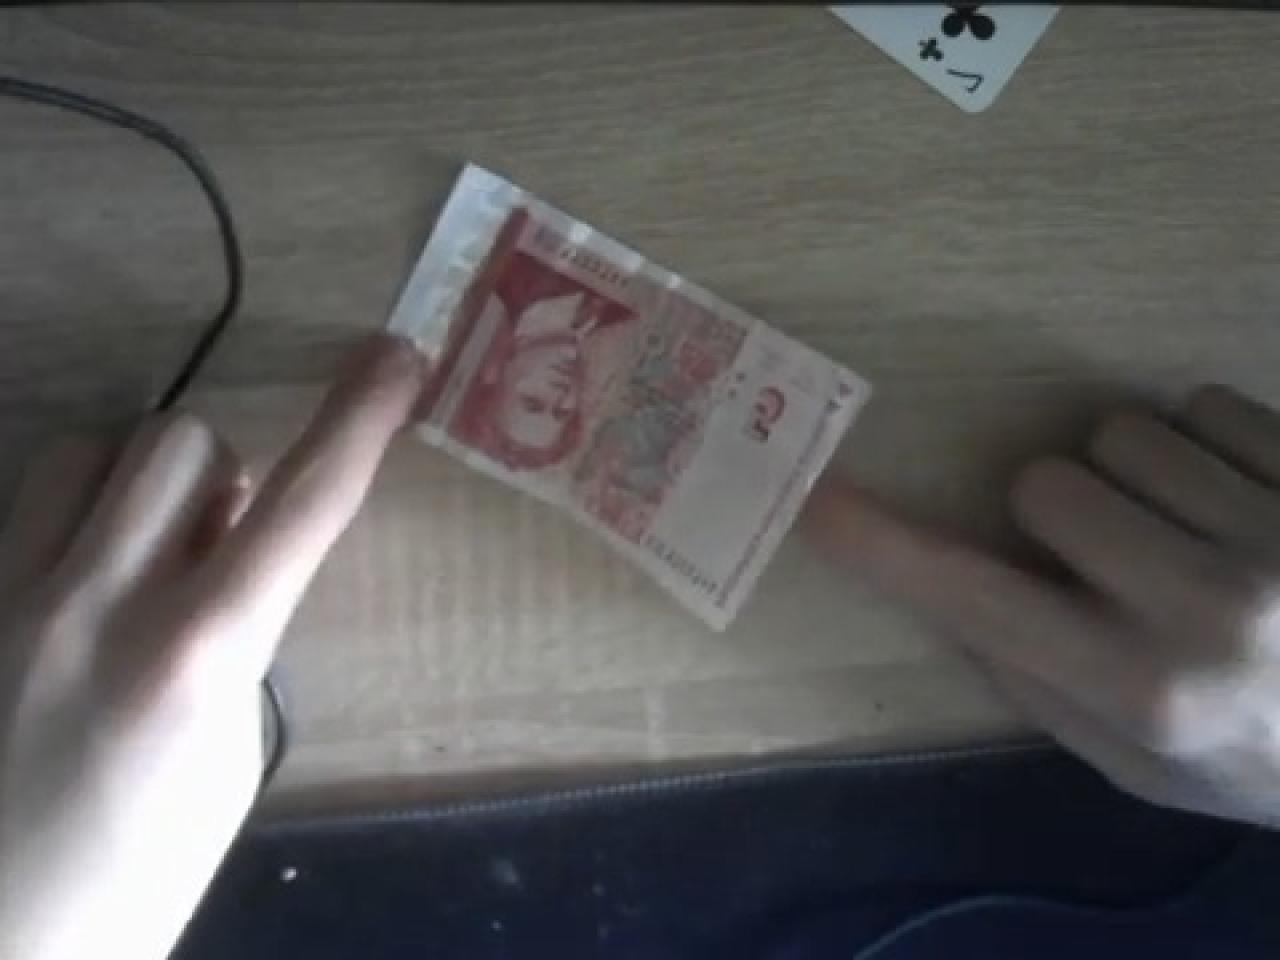5leva: (387, 160, 872, 629)
